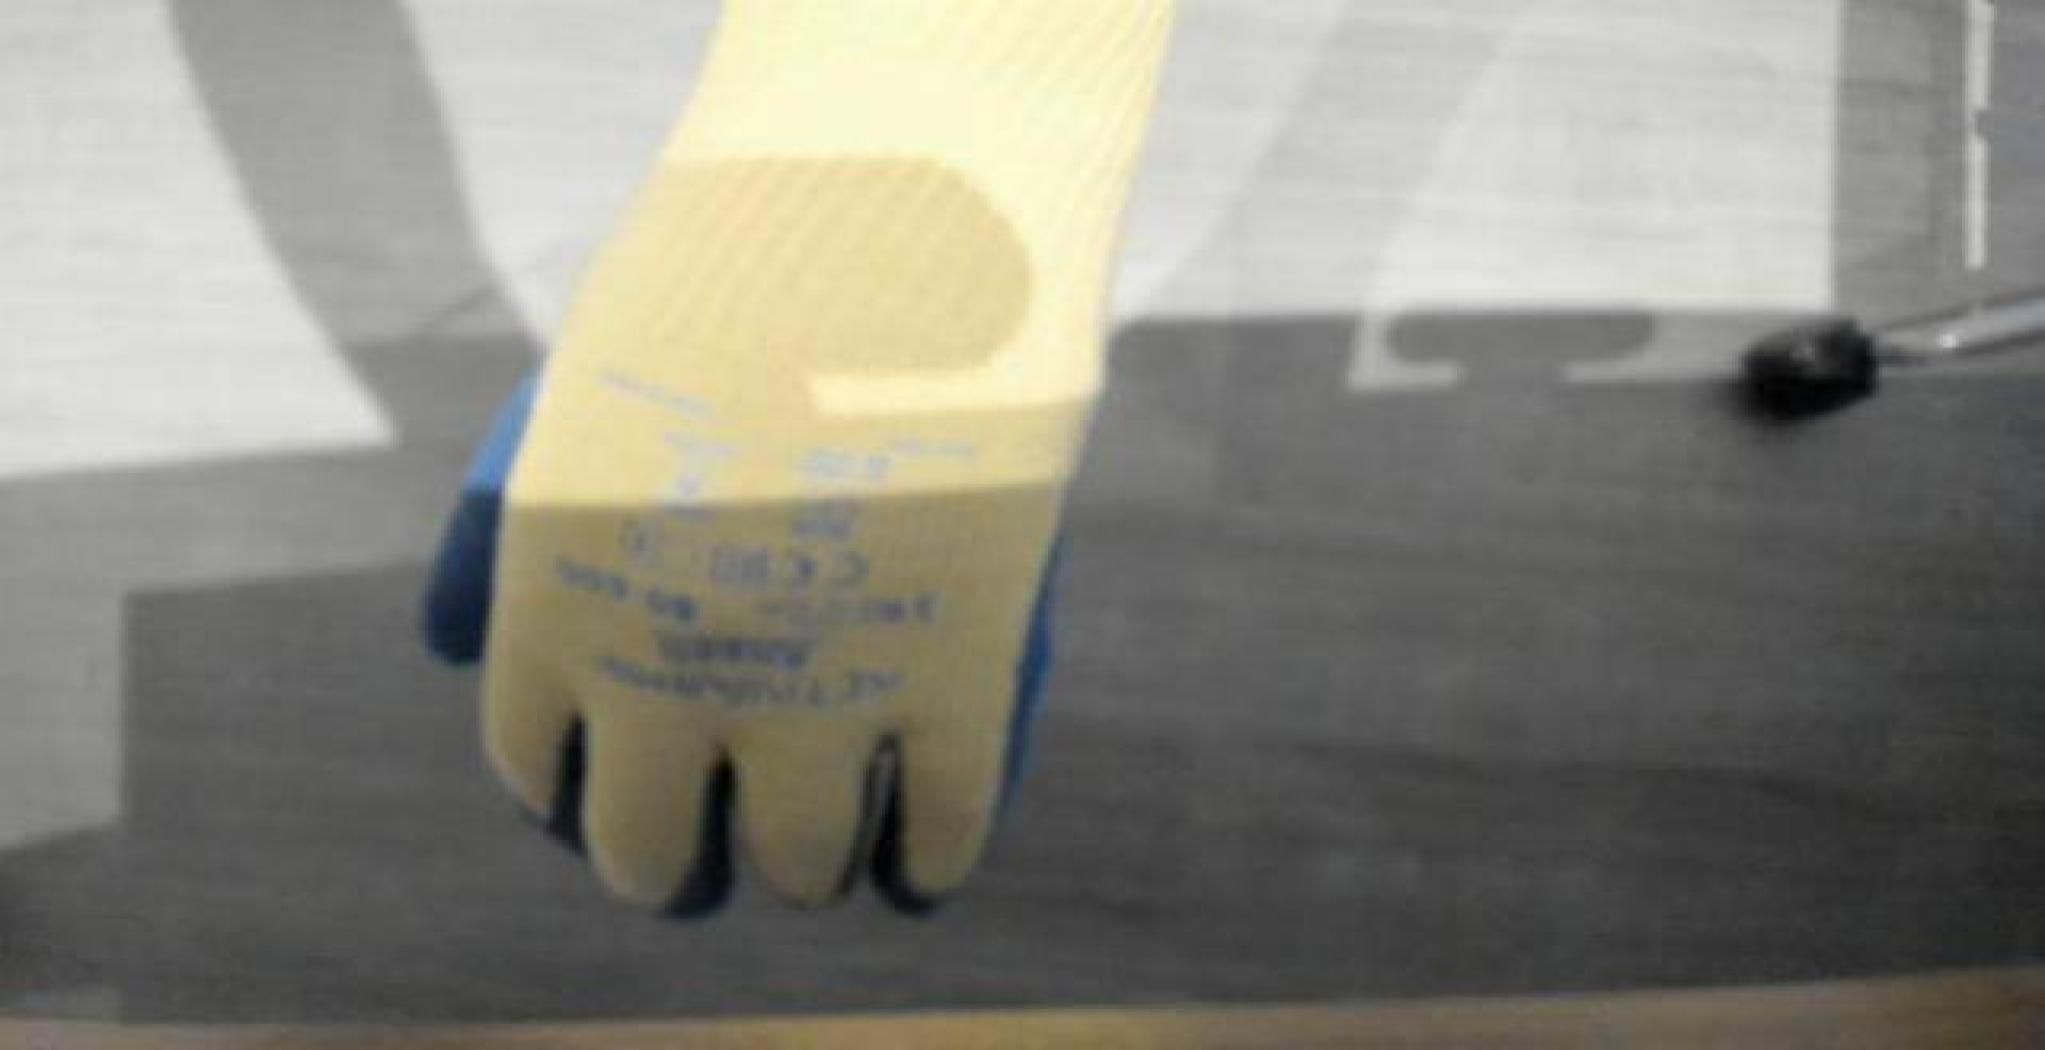gloved: (435, 296, 1072, 940)
